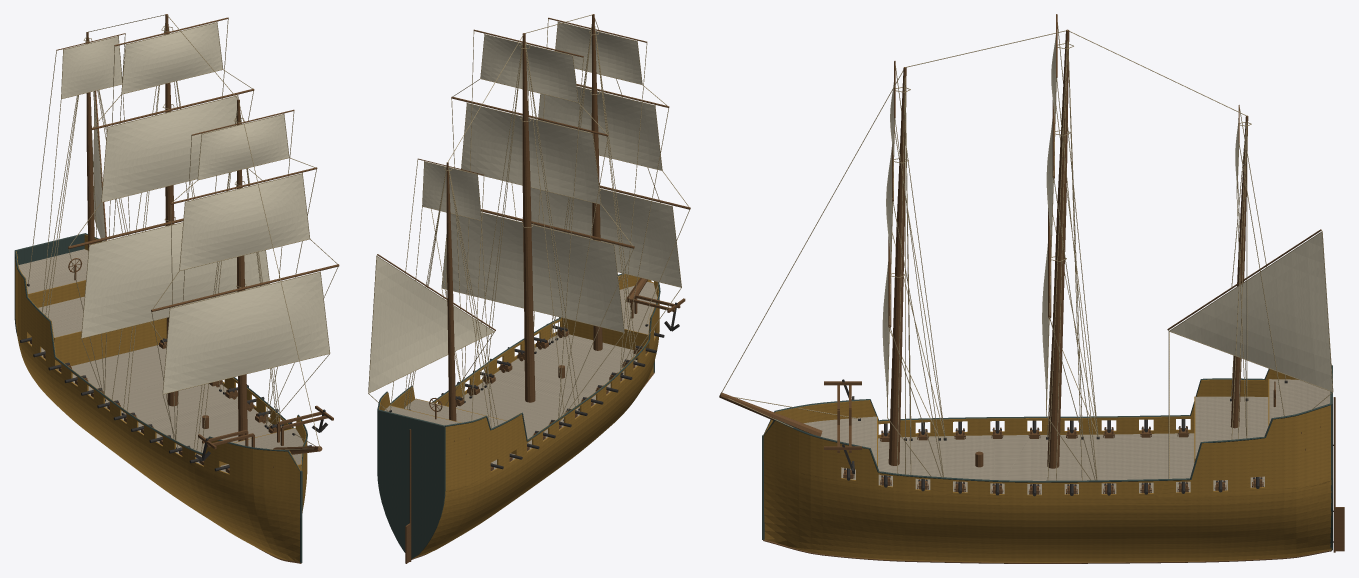
3 views of the same model, side by side, from view 1: azimuth 30°, elevation 25°; view 2: azimuth 150°, elevation 25°; view 3: azimuth 270°, elevation 25° (orthographic). The views are drawn at different scales.
Visible parts, largest first — view 1: lod2_hull_shell_starboard, lod2_fore_square_00, lod2_main_square_00, lod2_main_deck, lod2_fore_square_01, lod2_main_square_01, lod2_main_square_02, lod2_fore_square_02, lod2_castle_bulkhead_1_1, lod2_mizzen_square_00, lod2_castle_deck_0, lod2_stern_closure (+12 smaller); view 2: lod2_hull_shell_starboard, lod2_main_square_00, lod2_main_square_01, lod2_main_deck, lod2_mizzen_lateen_01, lod2_stern_closure, lod2_fore_square_00, lod2_fore_square_01, lod2_main_square_02, lod2_fore_square_02, lod2_main, lod2_mizzen_square_00 (+17 smaller); view 3: lod2_hull_shell_port, lod2_main_deck, lod2_mizzen_lateen_01, lod2_hull_shell_starboard, lod2_main, lod2_fore, lod2_castle_deck_1, lod2_castle_deck_0, lod2_gunwale_port, lod2_mizzen, lod2_castle_deck_2, lod2_keel (+2 smaller).
Part boxes in pixels (x1,y1,x2,y2): lod2_hull_shell_starboard: [15, 251, 300, 561]; lod2_fore_square_00: [163, 272, 329, 393]; lod2_main_square_00: [81, 222, 269, 337]; lod2_main_deck: [29, 342, 272, 472]; lod2_fore_square_01: [180, 174, 309, 270]; lod2_main_square_01: [102, 96, 240, 201]; lod2_main_square_02: [122, 23, 222, 93]; lod2_fore_square_02: [198, 114, 288, 179]; lod2_castle_bulkhead_1_1: [54, 318, 166, 369]; lod2_mizzen_square_00: [61, 37, 122, 98]; lod2_castle_deck_0: [18, 249, 88, 293]; lod2_stern_closure: [14, 233, 84, 335]; lod2_hull_shell_starboard: [413, 281, 659, 558]; lod2_main_square_00: [442, 213, 624, 332]; lod2_main_square_01: [461, 103, 600, 203]; lod2_main_deck: [456, 330, 654, 469]; lod2_mizzen_lateen_01: [368, 256, 493, 392]; lod2_stern_closure: [377, 409, 445, 559]; lod2_fore_square_00: [530, 188, 681, 286]; lod2_fore_square_01: [538, 87, 661, 170]; lod2_main_square_02: [481, 35, 577, 102]; lod2_fore_square_02: [555, 22, 641, 84]; lod2_main: [522, 33, 535, 402]; lod2_mizzen_square_00: [422, 162, 480, 220]; lod2_hull_shell_port: [763, 405, 1331, 562]; lod2_main_deck: [841, 433, 1264, 494]; lod2_mizzen_lateen_01: [1170, 232, 1332, 391]; lod2_hull_shell_starboard: [763, 369, 1298, 438]; lod2_main: [1047, 29, 1069, 468]; lod2_fore: [888, 67, 906, 465]; lod2_castle_deck_1: [1195, 396, 1268, 458]; lod2_castle_deck_0: [1269, 379, 1330, 423]; lod2_gunwale_port: [763, 403, 1331, 482]; lod2_mizzen: [1230, 115, 1248, 428]; lod2_castle_deck_2: [803, 416, 876, 464]; lod2_keel: [763, 539, 1331, 563].
Size of the model in its own units: 19.09 by 40.42 by 42.94.
7 materials, 7 textured.
